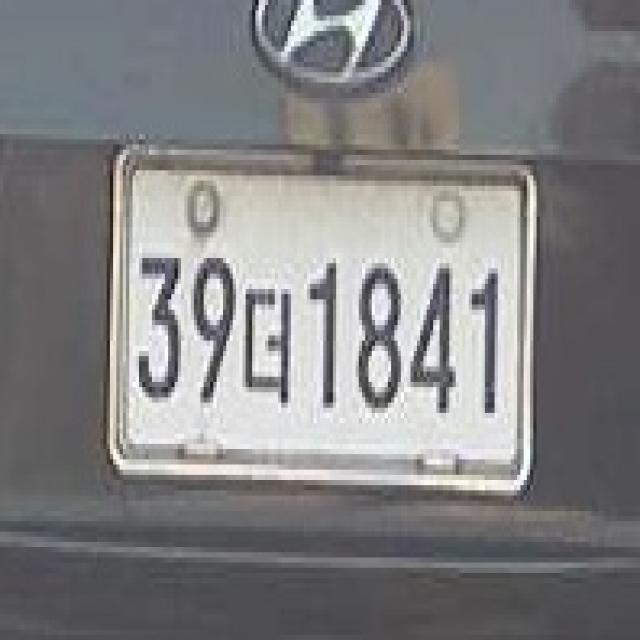1: (469, 268, 504, 413), (307, 258, 339, 408)
3: (133, 253, 184, 402)
4: (404, 258, 459, 418)
8: (356, 258, 404, 413)
9: (191, 253, 236, 408)
deo: (239, 279, 294, 413)
license_plate: (113, 150, 527, 485)
